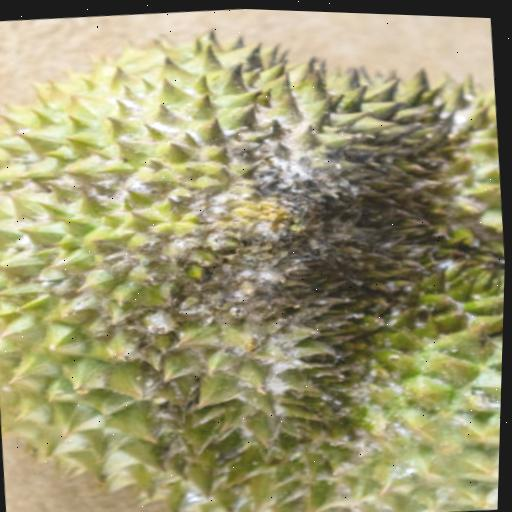mold: (113, 184, 307, 414), (170, 86, 361, 212)
rot: (267, 112, 505, 444)
